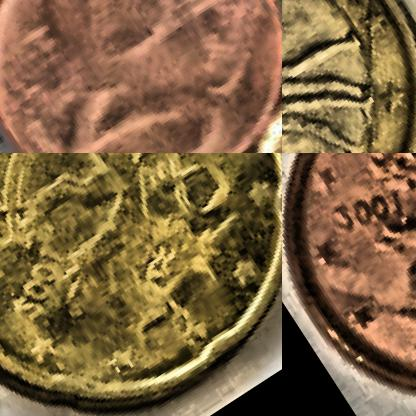coin: (0, 153, 281, 415), (0, 0, 281, 152), (282, 153, 415, 415), (282, 0, 415, 152)
